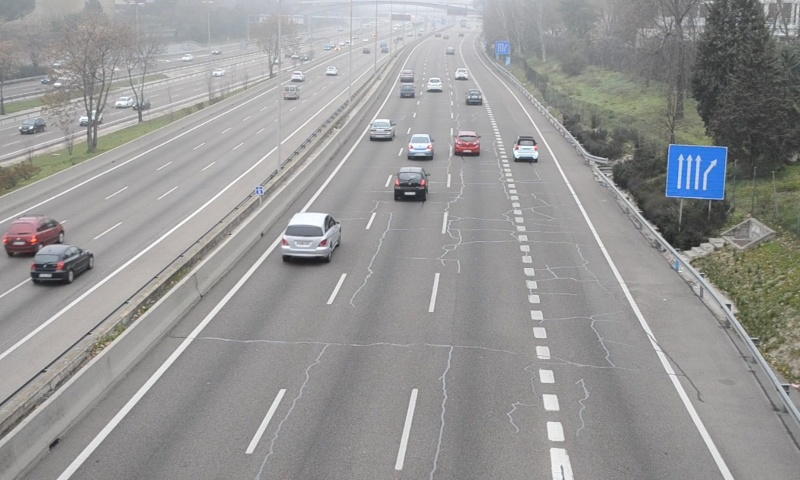car: (280, 212, 341, 259), (393, 166, 427, 201), (454, 130, 482, 157), (513, 135, 539, 162), (407, 134, 434, 160), (368, 118, 396, 141), (465, 89, 483, 106), (426, 76, 444, 92), (398, 84, 415, 99)
